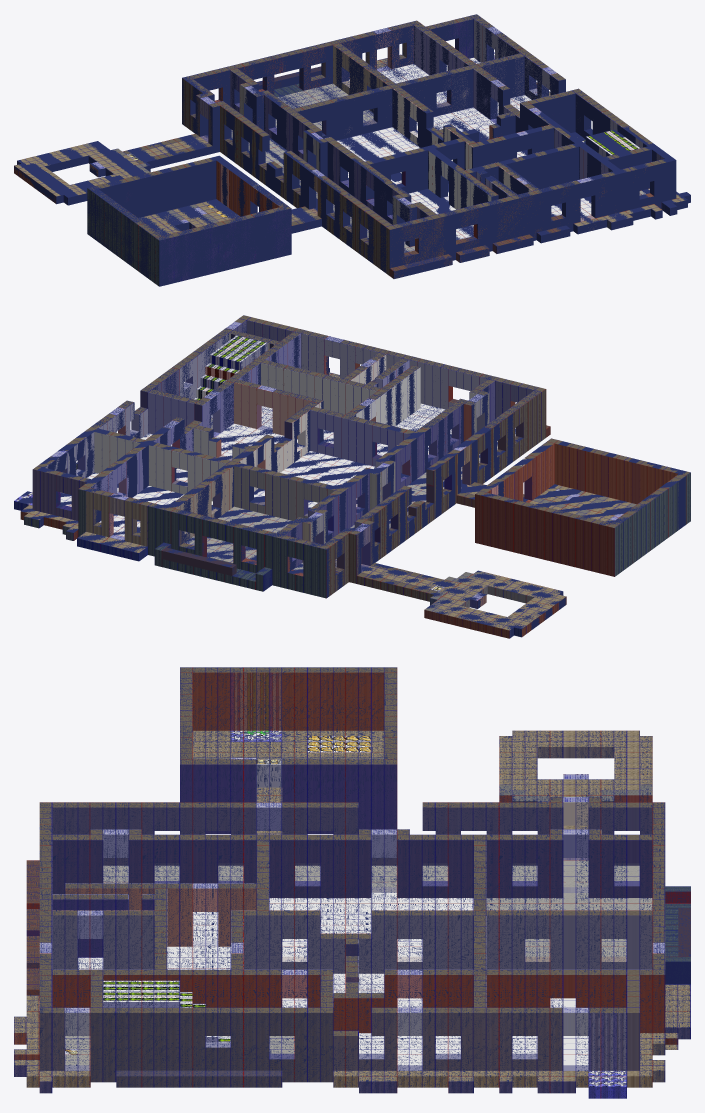
The picture shows the model from 3 angles, top to bottom: view 1: azimuth 30°, elevation 25°; view 2: azimuth 150°, elevation 25°; view 3: azimuth 270°, elevation 25°; orthographic projection. The views are drawn at different scales.
Visible parts, largest first — view 1: Plano80x80P1_col, Plano80x80P1; view 2: Plano80x80P1, Plano80x80P1_col; view 3: Plano80x80P1, Plano80x80P1_col.
Boxes of the visible parts, box(x1,y1,x2,y2) form: Plano80x80P1_col: box(14, 14, 690, 286); Plano80x80P1: box(14, 14, 684, 286); Plano80x80P1: box(14, 315, 690, 638); Plano80x80P1_col: box(17, 315, 686, 637); Plano80x80P1: box(14, 667, 690, 1098); Plano80x80P1_col: box(14, 667, 690, 1098).
Bounding box in the file's own units: 67 × 6 × 53.
Materials: 1 (1 with a texture image).
